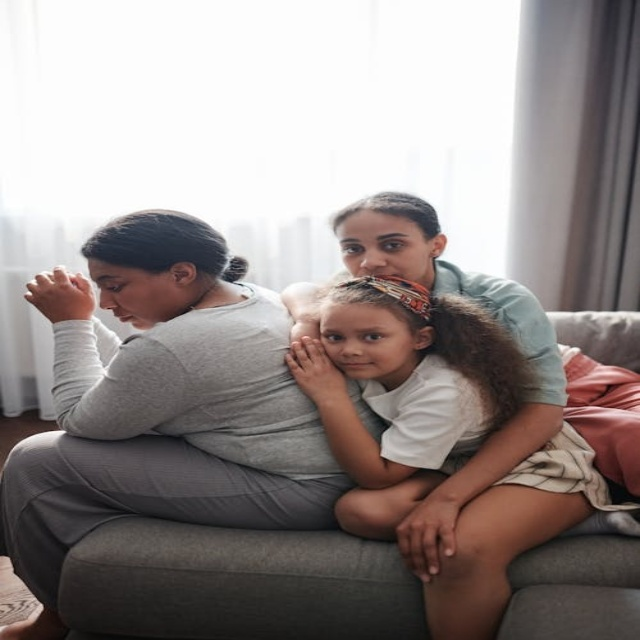Sin_gafas: (337, 233, 411, 259), (319, 324, 390, 349), (90, 272, 129, 294)
Sin_guantes: (392, 491, 474, 585), (18, 263, 101, 323), (282, 336, 351, 392)
Sin_mascara: (334, 356, 380, 374), (355, 270, 401, 282), (110, 308, 140, 324)
